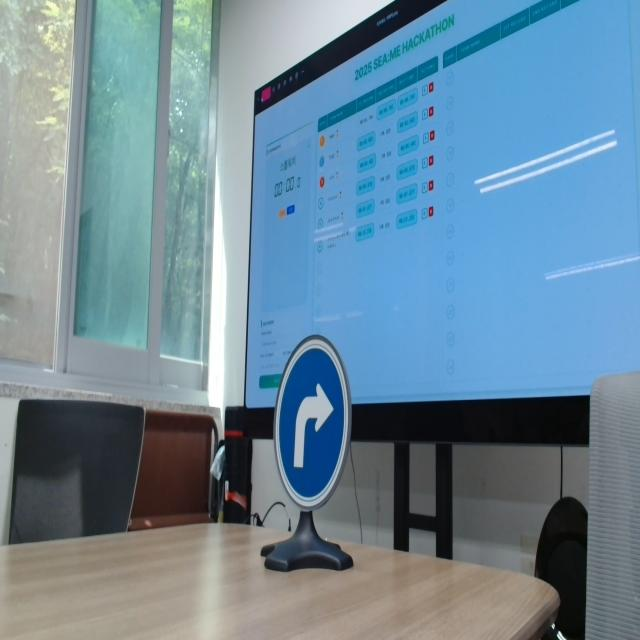right_dierection: (272, 324, 356, 504)
